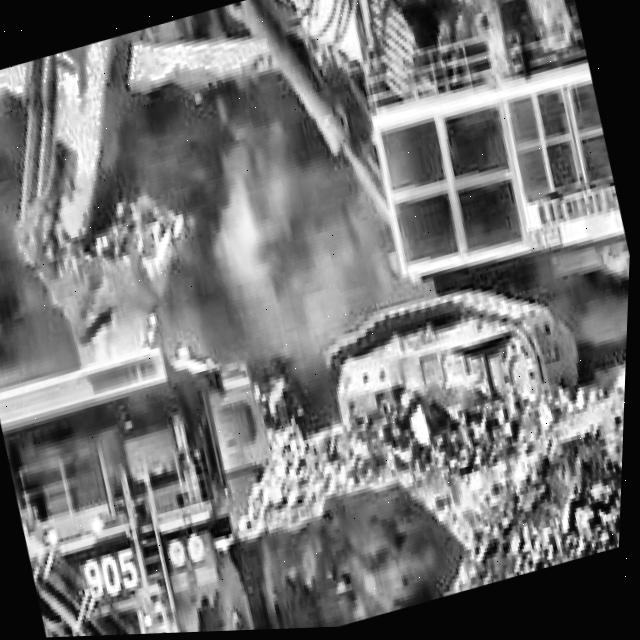dump_truck: (0, 311, 328, 640)
excavator: (0, 0, 635, 410)
